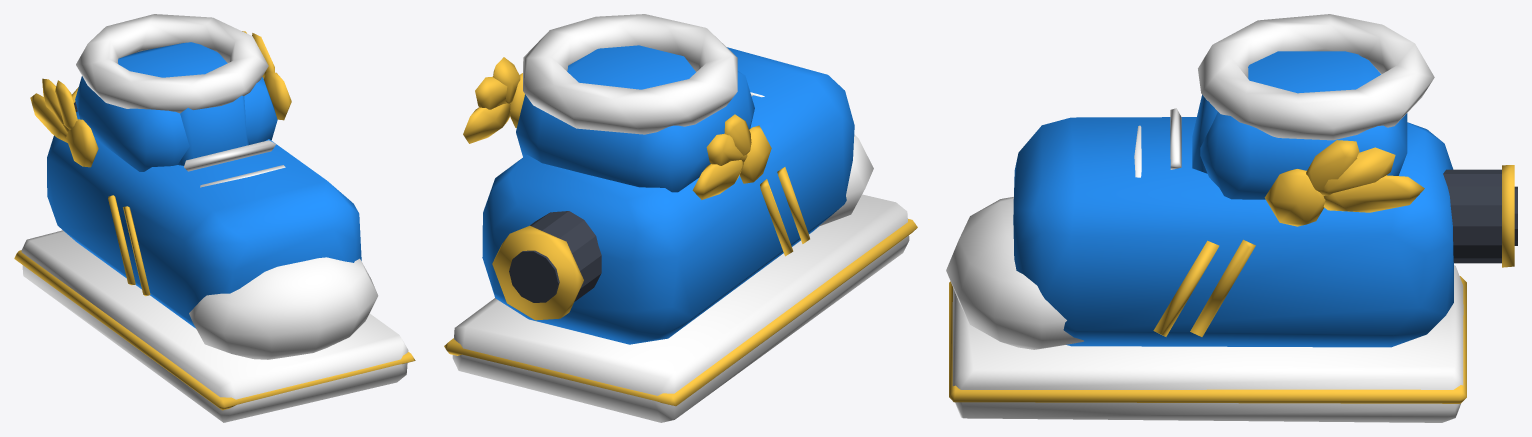
Rendered from chaussures_turbo.fbx.
3 views of the same model, side by side, from view 1: azimuth 30°, elevation 25°; view 2: azimuth 150°, elevation 25°; view 3: azimuth 270°, elevation 25° (orthographic). The views are drawn at different scales.
Visible parts, largest first — view 1: chaussures_turbo_Blanc, chaussures_turbo_Bleu, chaussures_turbo_Jaune; view 2: chaussures_turbo_Bleu, chaussures_turbo_Blanc, chaussures_turbo_Jaune, chaussures_turbo_Gris; view 3: chaussures_turbo_Bleu, chaussures_turbo_Blanc, chaussures_turbo_Jaune, chaussures_turbo_Gris.
Boxes of the visible parts, box(x1,y1,x2,y2) form: chaussures_turbo_Blanc: box(21, 14, 408, 422); chaussures_turbo_Bleu: box(47, 42, 361, 328); chaussures_turbo_Jaune: box(14, 31, 415, 410); chaussures_turbo_Bleu: box(482, 45, 854, 344); chaussures_turbo_Blanc: box(452, 14, 909, 422); chaussures_turbo_Jaune: box(444, 57, 917, 406); chaussures_turbo_Gris: box(509, 211, 601, 302); chaussures_turbo_Bleu: box(1013, 51, 1453, 347); chaussures_turbo_Blanc: box(946, 14, 1463, 422); chaussures_turbo_Jaune: box(949, 140, 1514, 403); chaussures_turbo_Gris: box(1443, 169, 1517, 263).
Bounding box in the file's own units: 1.43 × 1.6 × 2.69.
